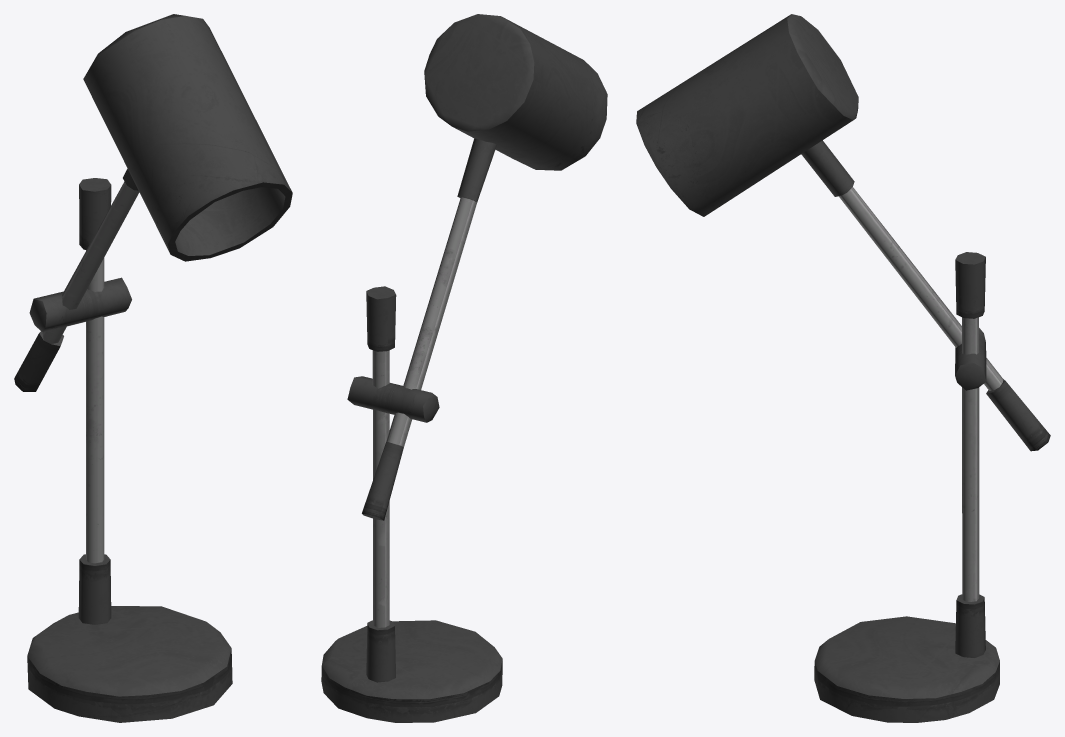
The model's file is SM_Desk_Lamp1.glb.
The picture shows the model from 3 angles, left to right: view 1: azimuth 30°, elevation 25°; view 2: azimuth 150°, elevation 25°; view 3: azimuth 270°, elevation 25°; orthographic projection. The views are drawn at different scales.
Parts seen in each view (by area): view 1: SM_Desk_Lamp1; view 2: SM_Desk_Lamp1; view 3: SM_Desk_Lamp1.
Boxes of the visible parts, bbox=[...] form: SM_Desk_Lamp1: bbox=[14, 14, 292, 722]; SM_Desk_Lamp1: bbox=[321, 14, 607, 722]; SM_Desk_Lamp1: bbox=[636, 14, 1050, 722].
Bounding box in the file's own units: 0.1777 × 0.6848 × 0.3957.
Materials: 1 (1 with a texture image).
